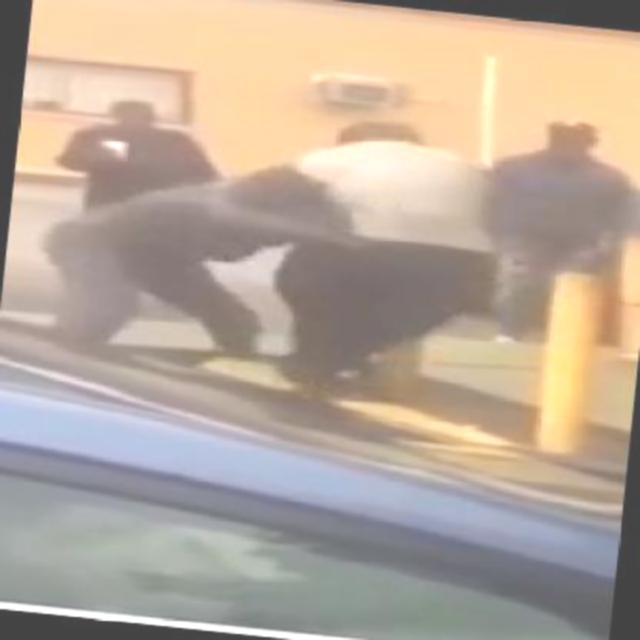fight: (28, 80, 504, 386)
non-fight: (470, 109, 638, 354)
